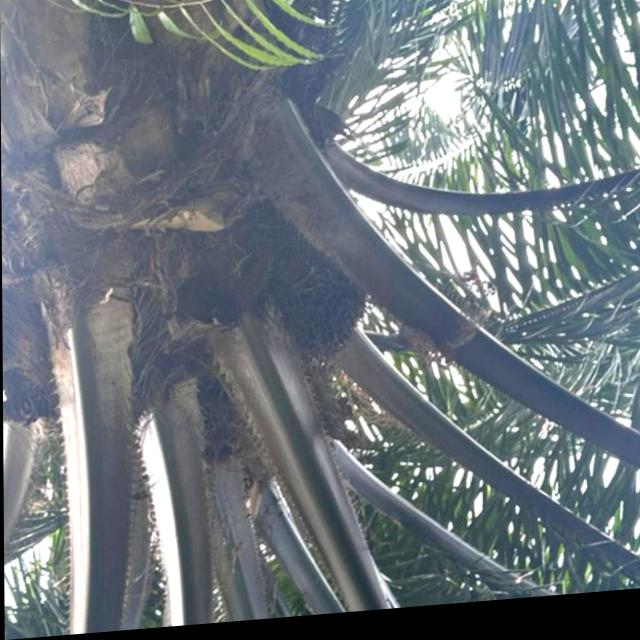unripe: (264, 256, 378, 381)
